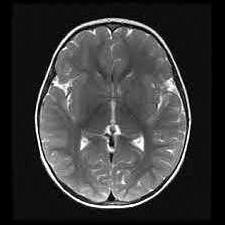Normal_Brain: (21, 1, 225, 225)
